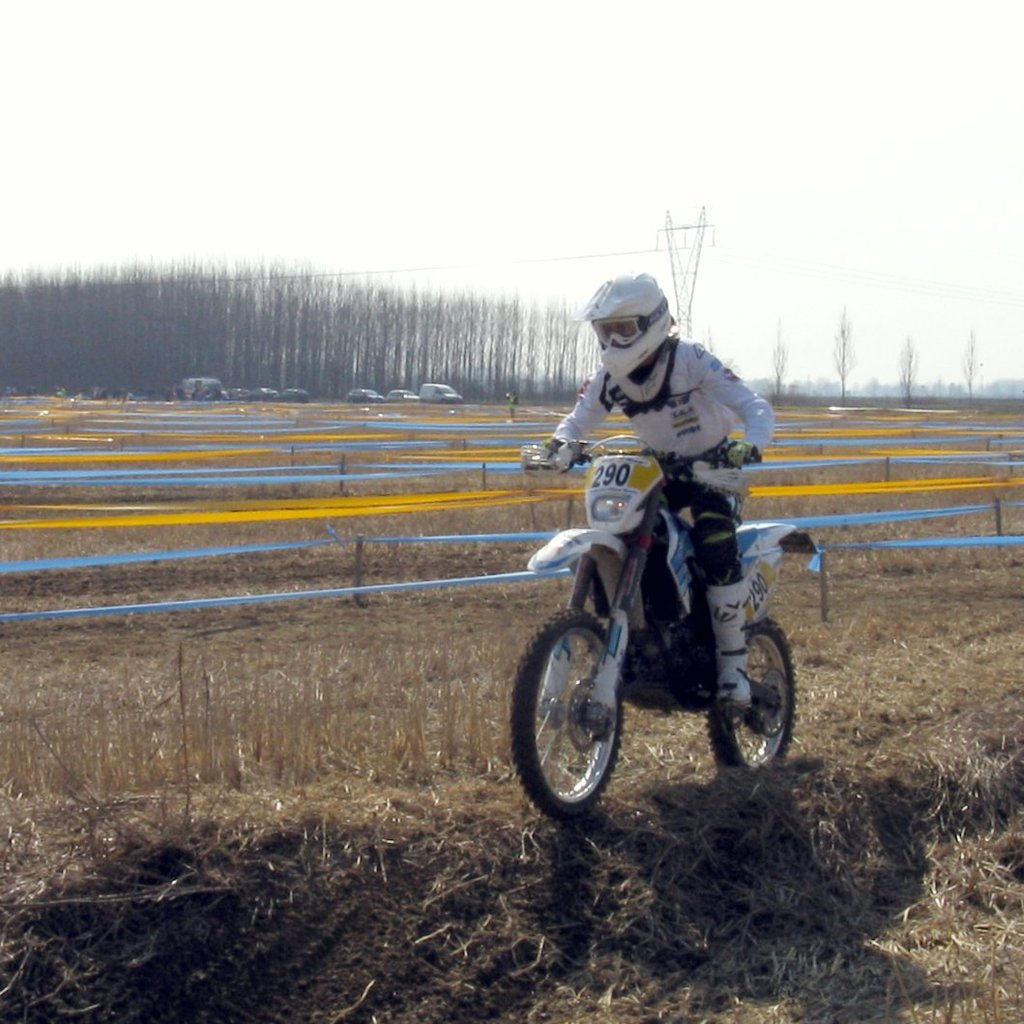Motorcycle: (498, 425, 843, 813)
